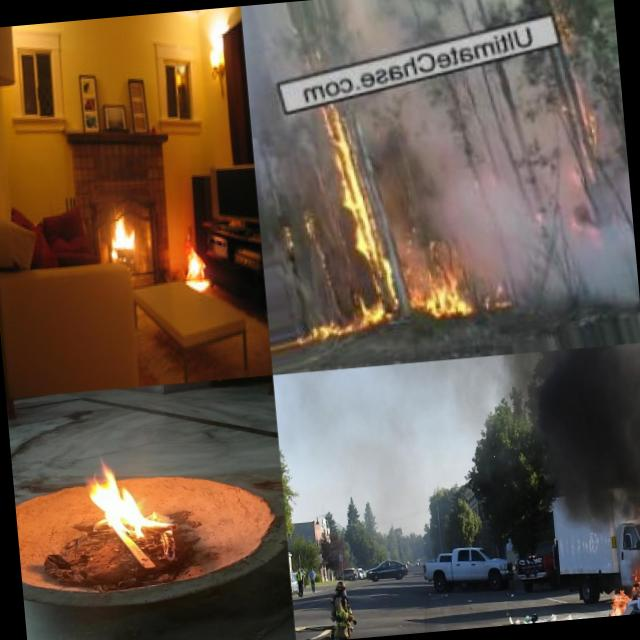fire: (266, 92, 486, 354), (81, 454, 185, 544), (106, 208, 140, 262), (630, 457, 640, 597), (602, 575, 632, 616)
smoke: (467, 112, 640, 323), (272, 353, 528, 437), (537, 462, 640, 545)
